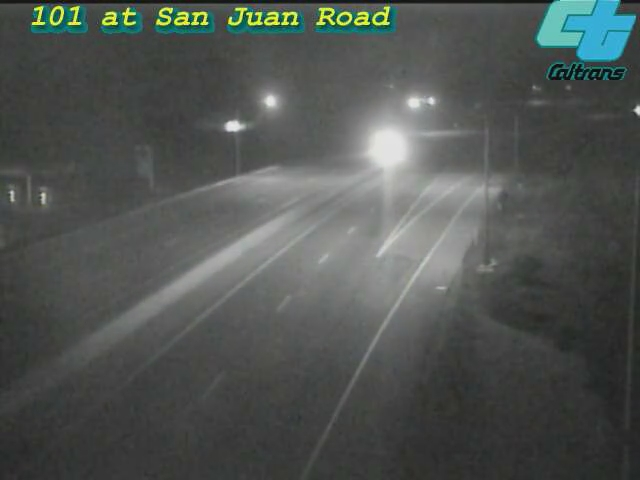vehicle: (357, 122, 407, 172)
